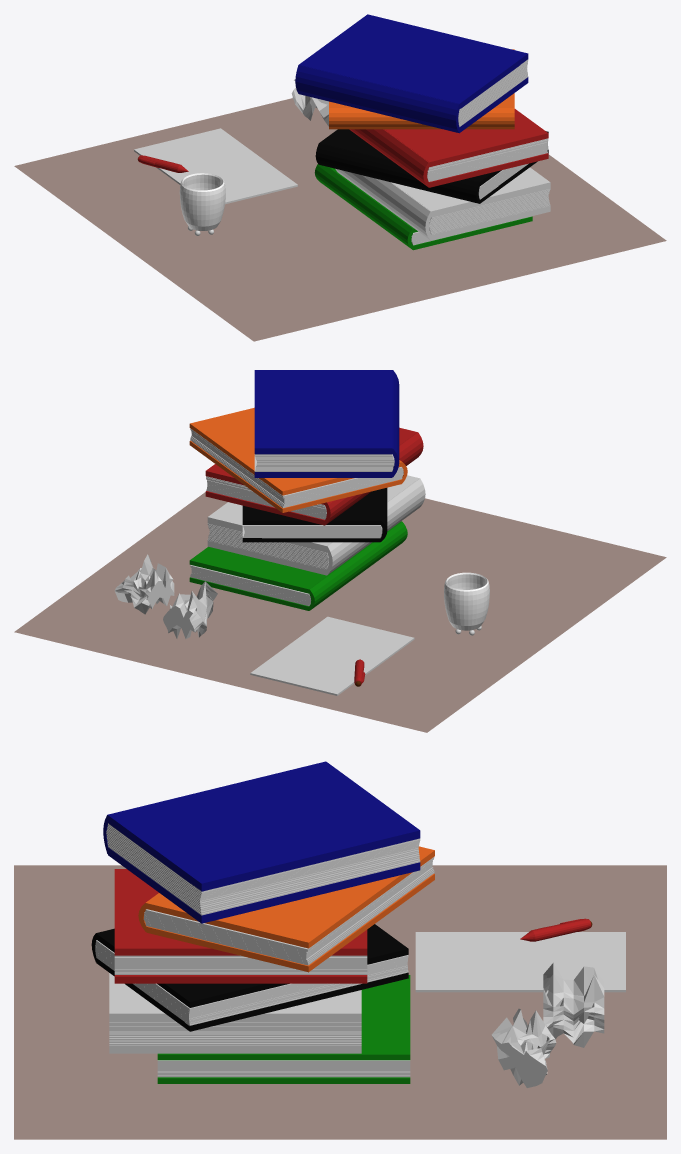
The model's file is book_case.obj.
3 renders of one model, top to bottom at view 1: azimuth 30°, elevation 25°; view 2: azimuth 150°, elevation 25°; view 3: azimuth 270°, elevation 25°, orthographic. The views are drawn at different scales.
Visible parts, largest first — view 1: Plane01, Box110, Box16, Box111, Box75, Box61, Box94, Line01, Box03, Box30, Box31, Box76 (+6 smaller); view 2: Plane01, Box110, Box16, Box93, Box02, Line01, Box03, Box113, Box60, Box31, Box17, Box30 (+8 smaller); view 3: Plane01, Box110, Box16, Box93, Box02, Box75, Box17, Box30, Box113, Box60, Box112, Box77 (+38 smaller).
Boxes of the visible parts, bbox=[...] form: Plane01: bbox=[14, 98, 666, 341]; Box110: bbox=[299, 14, 528, 109]; Box16: bbox=[134, 128, 297, 204]; Box111: bbox=[295, 65, 460, 132]; Box75: bbox=[384, 109, 548, 167]; Box61: bbox=[315, 143, 481, 203]; Box94: bbox=[329, 107, 514, 129]; Line01: bbox=[179, 173, 225, 230]; Box03: bbox=[314, 164, 415, 249]; Box30: bbox=[392, 167, 550, 216]; Box31: bbox=[335, 168, 433, 240]; Box76: bbox=[349, 129, 431, 187]; Plane01: bbox=[14, 492, 666, 732]; Box110: bbox=[254, 370, 392, 454]; Box16: bbox=[250, 616, 414, 695]; Box93: bbox=[189, 407, 401, 495]; Box02: bbox=[189, 521, 401, 593]; Line01: bbox=[444, 572, 489, 630]; Box03: bbox=[306, 521, 407, 610]; Box113: bbox=[114, 554, 174, 614]; Box60: bbox=[242, 489, 380, 524]; Box31: bbox=[325, 478, 425, 574]; Box17: bbox=[163, 581, 217, 638]; Box30: bbox=[207, 475, 419, 551]; Plane01: bbox=[14, 865, 666, 1139]; Box110: bbox=[108, 762, 420, 891]; Box16: bbox=[415, 932, 625, 992]; Box93: bbox=[146, 846, 434, 948]; Box02: bbox=[157, 975, 410, 1060]; Box75: bbox=[114, 869, 367, 955]; Box17: bbox=[543, 962, 604, 1047]; Box30: bbox=[109, 973, 361, 1021]; Box113: bbox=[491, 1008, 556, 1087]; Box60: bbox=[96, 924, 408, 1007]; Box112: bbox=[108, 847, 420, 923]; Box77: bbox=[114, 975, 367, 983].
Size of the model in its own units: 141 by 50.08 by 141.
